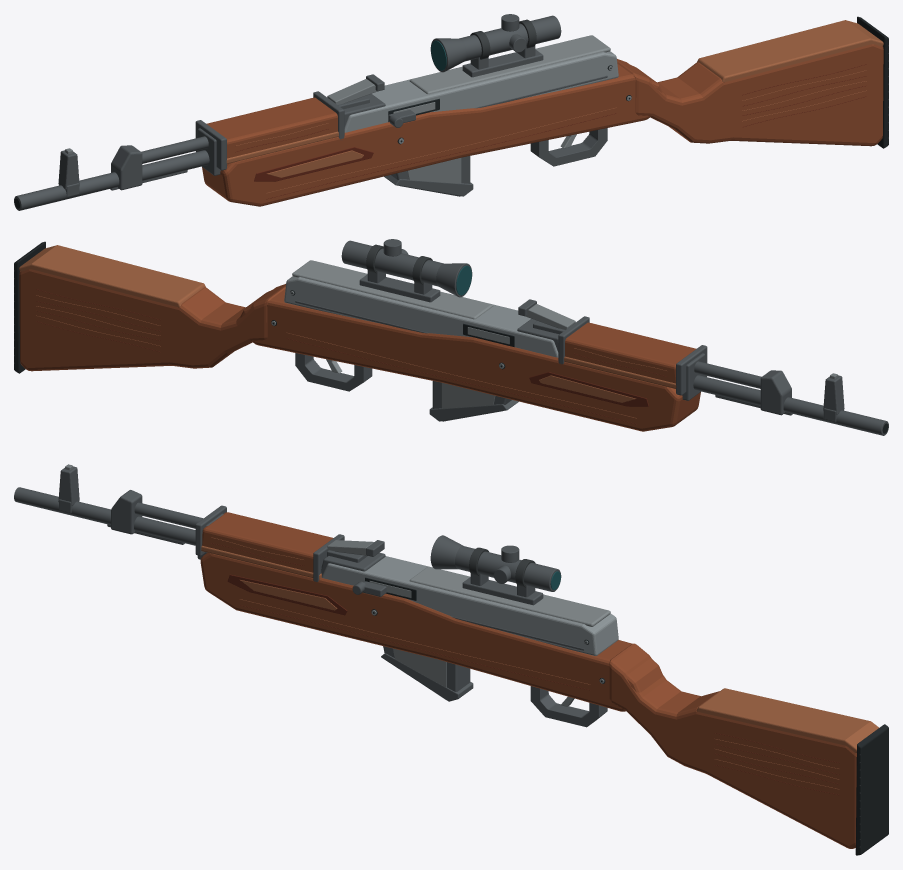
File: sks.glb
3 views of the same model, one above another, from view 1: azimuth 30°, elevation 25°; view 2: azimuth 150°, elevation 25°; view 3: azimuth 330°, elevation 25° (orthographic).
Parts seen in each view (by area): view 1: part_stock_surfaces, part_body_surfaces, part_receiver_surfaces, part_handguard_surfaces, part_barrel_surfaces, part_optic_surfaces, part_magazine_surfaces, part_sights_surfaces, part_guard_surfaces; view 2: part_stock_surfaces, part_body_surfaces, part_receiver_surfaces, part_handguard_surfaces, part_barrel_surfaces, part_optic_surfaces, part_magazine_surfaces, part_sights_surfaces, part_guard_surfaces; view 3: part_stock_surfaces, part_body_surfaces, part_receiver_surfaces, part_handguard_surfaces, part_optic_surfaces, part_barrel_surfaces, part_magazine_surfaces, part_sights_surfaces, part_guard_surfaces.
Part boxes in pixels (left/top/right/bottom): part_stock_surfaces: left=617, top=16, right=888, bottom=148; part_body_surfaces: left=202, top=59, right=662, bottom=206; part_receiver_surfaces: left=344, top=35, right=618, bottom=132; part_handguard_surfaces: left=195, top=91, right=344, bottom=170; part_barrel_surfaces: left=14, top=128, right=220, bottom=210; part_optic_surfaces: left=430, top=14, right=561, bottom=77; part_magazine_surfaces: left=384, top=156, right=473, bottom=196; part_sights_surfaces: left=58, top=74, right=384, bottom=197; part_guard_surfaces: left=530, top=128, right=607, bottom=166; part_stock_surfaces: left=14, top=241, right=285, bottom=373; part_body_surfaces: left=240, top=284, right=700, bottom=431; part_receiver_surfaces: left=284, top=260, right=558, bottom=357; part_handguard_surfaces: left=558, top=316, right=707, bottom=395; part_barrel_surfaces: left=682, top=353, right=888, bottom=435; part_optic_surfaces: left=341, top=239, right=472, bottom=302; part_magazine_surfaces: left=429, top=381, right=518, bottom=421; part_sights_surfaces: left=518, top=299, right=844, bottom=422; part_guard_surfaces: left=295, top=353, right=372, bottom=391; part_stock_surfaces: left=609, top=643, right=888, bottom=855; part_body_surfaces: left=200, top=552, right=662, bottom=711; part_receiver_surfaces: left=321, top=552, right=618, bottom=655; part_handguard_surfaces: left=195, top=505, right=344, bottom=581; part_optic_surfaces: left=430, top=535, right=561, bottom=605; part_barrel_surfaces: left=14, top=487, right=223, bottom=559; part_magazine_surfaces: left=381, top=646, right=473, bottom=701; part_sights_surfaces: left=58, top=464, right=384, bottom=562; part_guard_surfaces: left=530, top=686, right=607, bottom=727.
Bounding box in the file's own units: 350 × 81.44 × 25.05.
